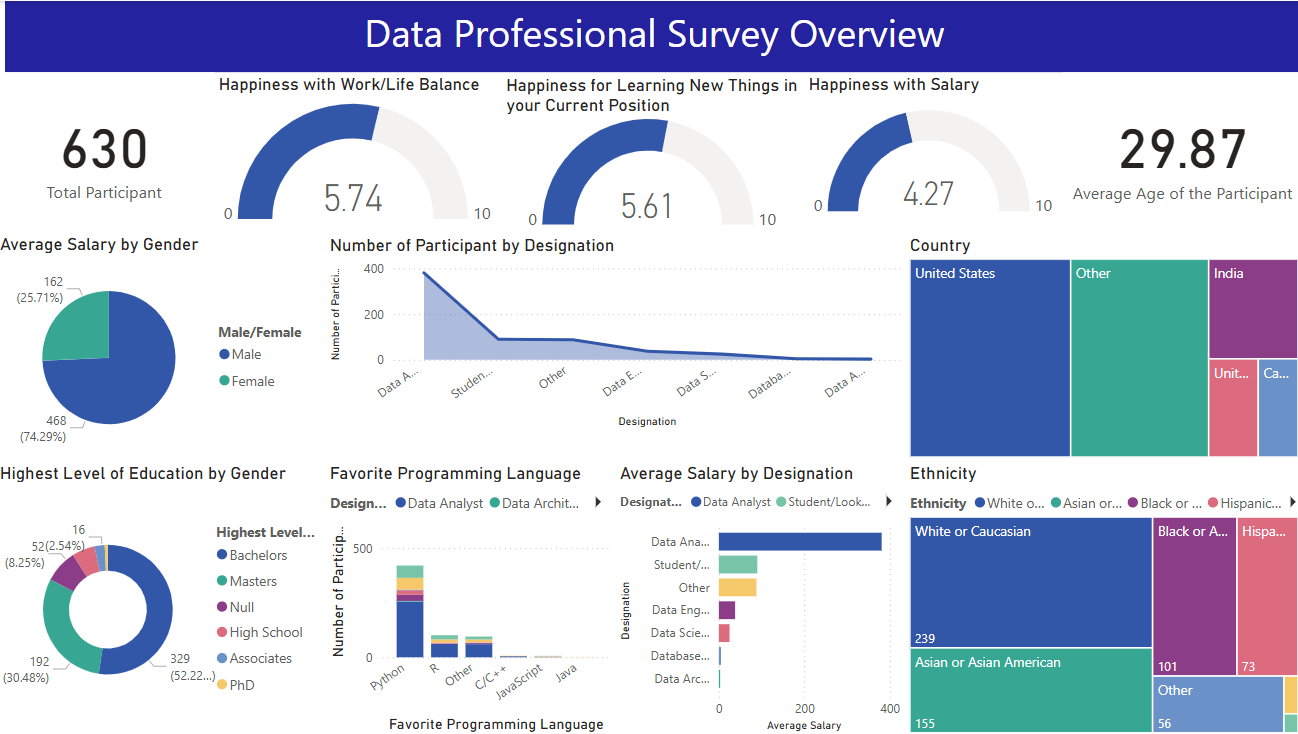

Layout of this report page (visuals, bound fields, positions):
{"tool":"powerbi","page":{"name":"Page 1","canvas":[1280,720],"ordinal":0},"visuals":[{"type":"textbox","box":[9.6,0,1270.7,70],"z":0},{"type":"card","fields":{"Values":["Count(Data Professional Survey.Unique ID)"]},"box":[0,70,214.1,157.8],"z":1},{"type":"card","fields":{"Values":["Avg(Data Professional Survey.Q10 - Current Age)"]},"box":[1044.8,70.1,235.5,158],"z":2},{"type":"pieChart","title":"Average Salary by Gender","fields":{"Category":["Data Professional Survey.Q9 - Male/Female?"],"Y":["CountNonNull(Data Professional Survey.Average Salary)"]},"box":[0,227.1,322.3,224.1],"z":3},{"type":"treemap","title":"Ethnicity","fields":{"Values":["CountNonNull(Data Professional Survey.Q13 - Ethnicity.1)"],"Group":["Data Professional Survey.Q13 - Ethnicity.1"]},"box":[890.6,451.2,389.7,269.5],"z":4},{"type":"treemap","title":"Country","fields":{"Group":["Data Professional Survey.Q11 - Which Country do you live in?.1"],"Values":["CountNonNull(Data Professional Survey.Q11 - Which Country do you live in?.1)"]},"box":[890.6,228.5,389.7,222.7],"z":5},{"type":"gauge","title":"Happiness with Salary","fields":{"Y":["Avg(Data Professional Survey.Q6 - How Happy are you in your Current Position with the following? (Salary))"],"MinValue":["Min(Data Professional Survey.Q6 - How Happy are you in your Current Position with the following? (Salary))"],"MaxValue":["Max(Data Professional Survey.Q6 - How Happy are you in your Current Position with the following? (Salary))1"]},"box":[791,70.3,253.4,156.7],"z":6},{"type":"gauge","title":"Happiness for Learning New Things in your Current Position","fields":{"Y":["Avg(Data Professional Survey.Q6 - How Happy are you in your Current Position with the following? (Learning New Things))"],"MinValue":["Min(Data Professional Survey.Q6 - How Happy are you in your Current Position with the following? (Learning New Things))"],"MaxValue":["Max(Data Professional Survey.Q6 - How Happy are you in your Current Position with the following? (Learning New Things))1"]},"box":[495.1,71.8,295.9,156.7],"z":7},{"type":"gauge","title":"Happiness with Work/Life Balance","fields":{"Y":["Avg(Data Professional Survey.Q6 - How Happy are you in your Current Position with the following? (Work/Life Balance))"],"MinValue":["Min(Data Professional Survey.Q6 - How Happy are you in your Current Position with the following? (Work/Life Balance))"],"MaxValue":["Max(Data Professional Survey.Q6 - How Happy are you in your Current Position with the following? (Work/Life Balance))"]},"box":[213.9,70.3,281.3,158.2],"z":8},{"type":"donutChart","title":"Highest Level of Education by Gender","fields":{"Category":["Data Professional Survey.Q12 - Highest Level of Education"],"Y":["CountNonNull(Data Professional Survey.Q9 - Male/Female?)"]},"box":[0,451.2,322.3,269.5],"z":9},{"type":"areaChart","fields":{"Category":["Data Professional Survey.Q1 - Which Title Best Fits your Current Role?.1"],"Y":["Count(Data Professional Survey.Unique ID)"]},"box":[322.3,228.5,568.4,193.4],"z":10},{"type":"columnChart","title":"Favorite Programming Language","fields":{"Category":["Data Professional Survey.Q5 - Favorite Programming Language.1.1"],"Y":["CountNonNull(Data Professional Survey.Unique ID)"],"Series":["Data Professional Survey.Q1 - Which Title Best Fits your Current Role?.1"]},"box":[322.3,451.2,284.2,269.5],"z":11},{"type":"barChart","title":"Average Salary by Designation","fields":{"Y":["CountNonNull(Data Professional Survey.Average Salary)"],"Category":["Data Professional Survey.Q1 - Which Title Best Fits your Current Role?.1"],"Series":["Data Professional Survey.Q1 - Which Title Best Fits your Current Role?.1"]},"box":[606,451,284,269],"z":12}]}

Visuals, with their boxes in screenshot pixels (x1, y1, x2, y2), scaled from the page's 1280x720 canvas onto the 1298x734 screenshot:
textbox: (10,0,1297,71)
card - Count(Data Professional Survey.Unique ID): (0,71,217,232)
card - Avg(Data Professional Survey.Q10 - Current Age): (1059,71,1297,233)
"Average Salary by Gender" pieChart: (0,232,327,460)
"Ethnicity" treemap: (903,460,1297,733)
"Country" treemap: (903,233,1297,460)
"Happiness with Salary" gauge: (802,72,1059,231)
"Happiness for Learning New Things in your Current Position" gauge: (502,73,802,233)
"Happiness with Work/Life Balance" gauge: (217,72,502,233)
"Highest Level of Education by Gender" donutChart: (0,460,327,733)
areaChart - Data Professional Survey.Q1 - Which Title Best Fits your Current Role?.1 x Count(Data Professional Survey.Unique ID): (327,233,903,430)
"Favorite Programming Language" columnChart: (327,460,615,733)
"Average Salary by Designation" barChart: (615,460,903,733)
